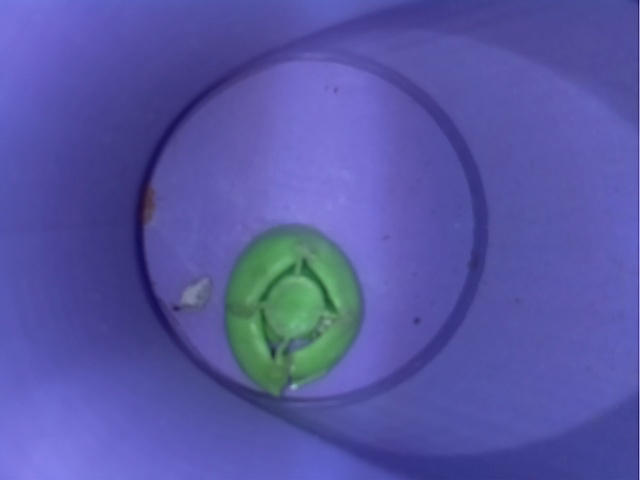bouchon: (212, 219, 367, 397)
